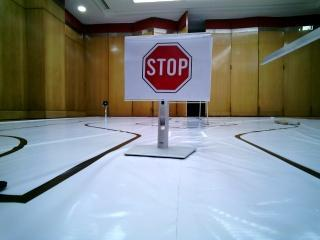stop: (134, 41, 201, 101)
